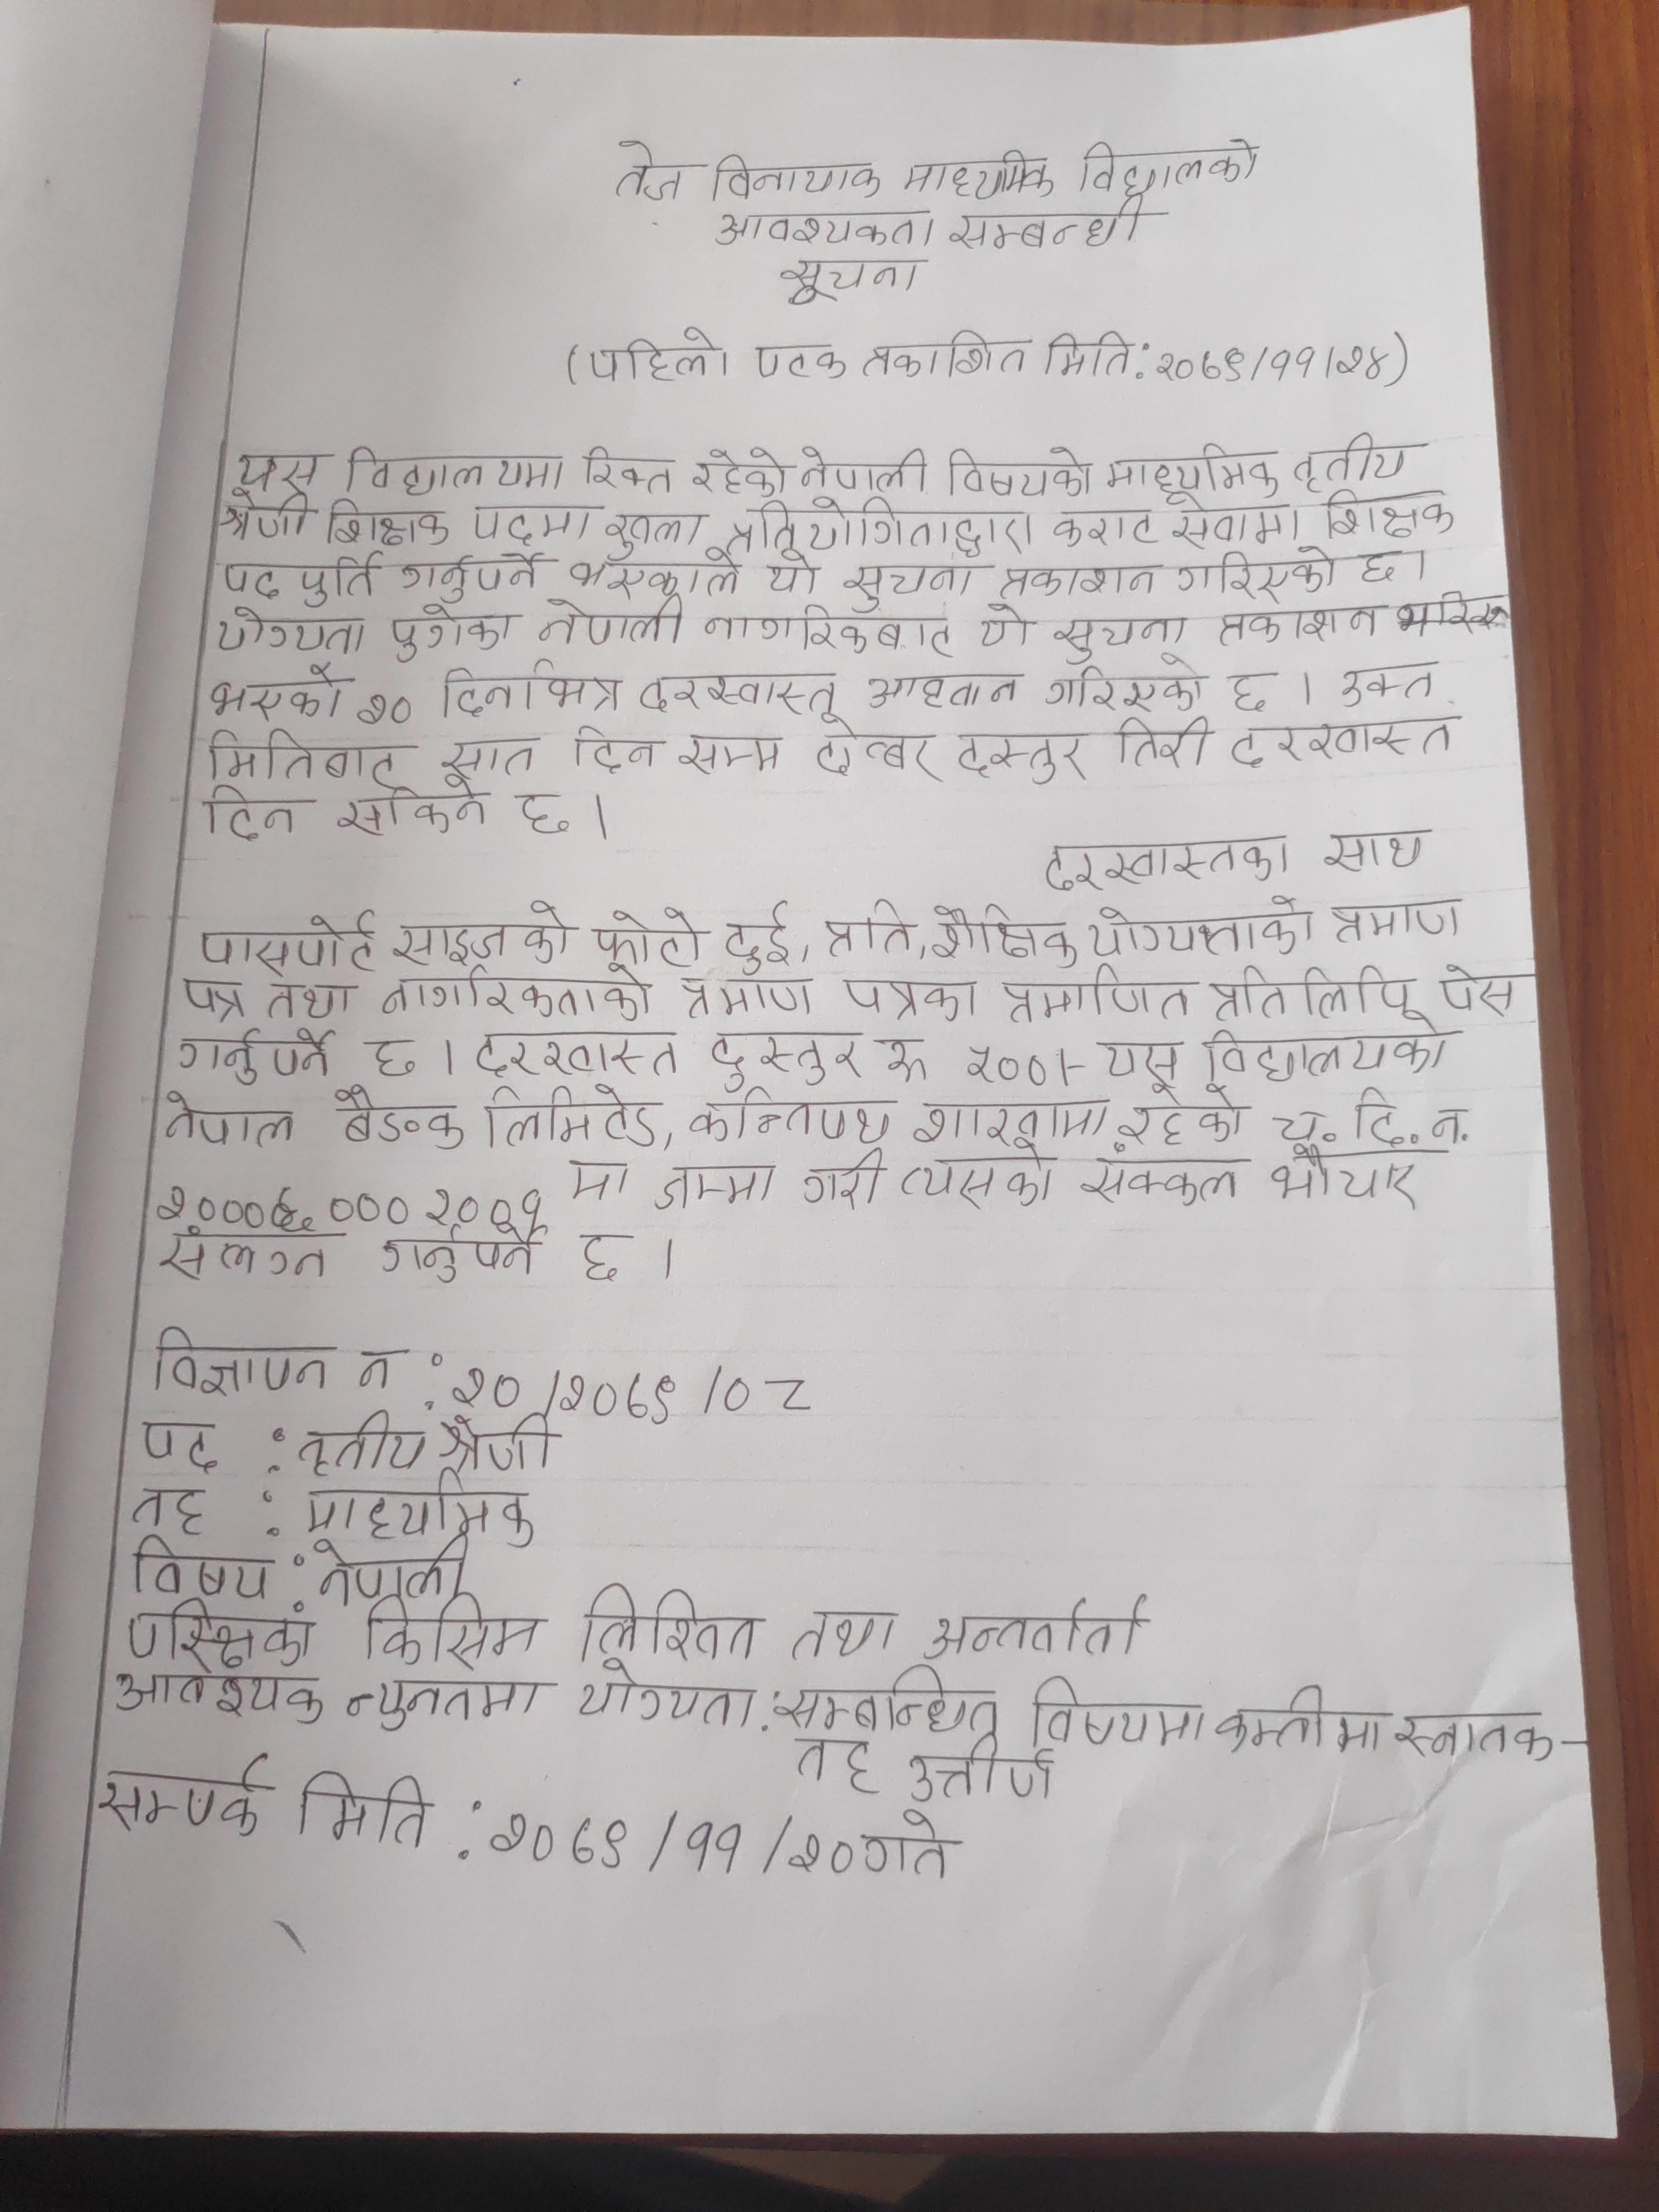text: (486, 1806, 857, 1881), (450, 1364, 816, 1421), (155, 1179, 544, 1231), (301, 1472, 545, 1547), (723, 500, 1042, 554), (924, 1595, 1157, 1665), (770, 1670, 1002, 1740), (371, 967, 657, 1022), (1079, 894, 1317, 960), (704, 601, 957, 660), (1040, 831, 1293, 890), (96, 1756, 272, 1839), (575, 1581, 763, 1658), (150, 1322, 331, 1399), (1026, 1674, 1208, 1750), (1204, 1026, 1455, 1080), (1269, 1087, 1483, 1150), (361, 1595, 544, 1669), (387, 895, 579, 963), (124, 1599, 310, 1669), (1225, 718, 1457, 773), (484, 1078, 664, 1150), (206, 725, 404, 789), (687, 1089, 896, 1150), (708, 200, 941, 254), (575, 1662, 763, 1728), (1152, 340, 1394, 390), (1215, 1686, 1385, 1757), (1208, 961, 1413, 1021), (117, 1667, 322, 1726), (469, 1024, 687, 1080), (288, 1768, 429, 1853), (946, 195, 1161, 251), (197, 913, 382, 975), (160, 1223, 335, 1289), (631, 667, 843, 721), (1077, 132, 1265, 193), (342, 444, 577, 493), (899, 1141, 1058, 1212), (343, 1674, 540, 1731), (999, 963, 1192, 1021), (904, 1735, 1058, 1806), (125, 1529, 270, 1602), (1103, 439, 1284, 496), (929, 899, 1082, 967), (312, 1534, 469, 1599), (221, 550, 390, 610), (173, 1022, 340, 1082), (941, 435, 1094, 500), (908, 1096, 1108, 1144), (857, 326, 1037, 380), (1394, 1709, 1556, 1768), (439, 664, 622, 716), (1119, 1083, 1251, 1155), (706, 1028, 864, 1087), (328, 1083, 469, 1150), (1080, 1146, 1243, 1202), (955, 726, 1094, 791), (1173, 550, 1344, 603), (382, 1230, 545, 1284), (211, 603, 369, 658), (1265, 1146, 1424, 1202), (709, 150, 884, 200), (786, 435, 934, 495), (298, 1409, 429, 1475), (816, 712, 943, 780), (434, 1411, 561, 1479), (159, 1089, 300, 1150), (206, 662, 350, 721), (903, 148, 1061, 202), (587, 326, 735, 383), (1162, 489, 1302, 550), (338, 786, 490, 841), (383, 601, 519, 662), (1044, 660, 1206, 711), (319, 496, 464, 550), (1319, 488, 1464, 542), (565, 559, 746, 601), (399, 550, 547, 601), (671, 970, 819, 1021), (1284, 434, 1419, 489), (779, 247, 922, 300), (1216, 601, 1385, 644), (537, 601, 692, 648), (592, 906, 708, 968), (845, 559, 978, 613), (859, 1811, 955, 1883), (596, 495, 701, 559), (1107, 712, 1216, 773), (606, 132, 694, 207), (842, 975, 985, 1021), (997, 563, 1164, 601), (579, 442, 687, 502), (1051, 615, 1190, 660), (1324, 897, 1464, 942), (1049, 491, 1159, 549), (655, 1158, 779, 1209), (462, 500, 599, 545), (854, 671, 1023, 707), (821, 895, 915, 960), (687, 442, 791, 500), (788, 1733, 878, 1799), (200, 782, 298, 843), (723, 900, 802, 974), (218, 482, 315, 540), (1330, 660, 1439, 711), (798, 1150, 890, 1209), (791, 1608, 899, 1658), (439, 733, 547, 782), (1323, 829, 1429, 878), (1436, 960, 1521, 1019), (1040, 329, 1136, 381), (678, 732, 788, 777), (748, 336, 849, 385), (1094, 1035, 1183, 1089), (230, 442, 328, 491), (256, 979, 357, 1026), (125, 1486, 220, 1536), (572, 719, 659, 773), (138, 1413, 214, 1470), (964, 1042, 1049, 1090), (176, 972, 253, 1021), (563, 1155, 636, 1205), (511, 791, 580, 840), (575, 1224, 626, 1284), (880, 1029, 932, 1080), (765, 550, 823, 594), (354, 688, 416, 726), (978, 601, 1030, 646), (364, 1036, 418, 1080), (352, 1348, 403, 1392), (1223, 671, 1274, 712), (1358, 547, 1403, 585)
